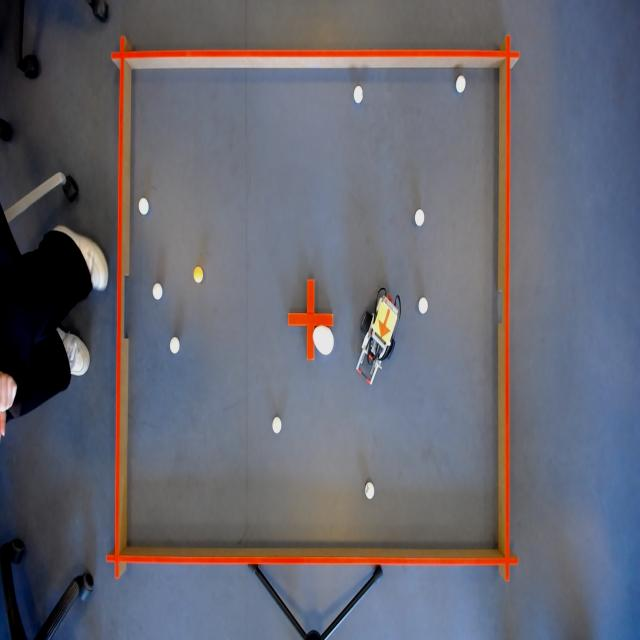cross: (287, 278, 335, 362)
egg: (311, 323, 336, 360)
orange_ball: (192, 263, 205, 287)
robot: (372, 302, 398, 348)
white_ball: (412, 205, 427, 229), (270, 413, 284, 437), (362, 478, 376, 502), (137, 195, 150, 220), (352, 82, 365, 106), (151, 281, 164, 303), (169, 335, 181, 358), (455, 73, 467, 95), (418, 296, 429, 318)
